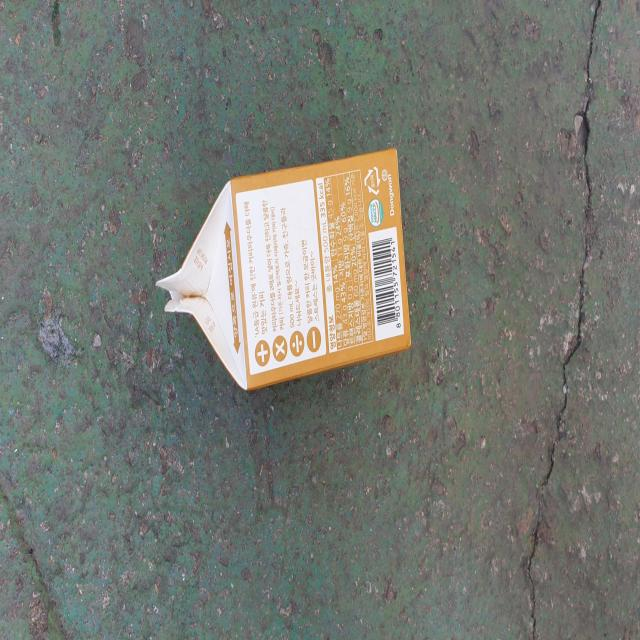paperpack: (156, 148, 411, 389)
